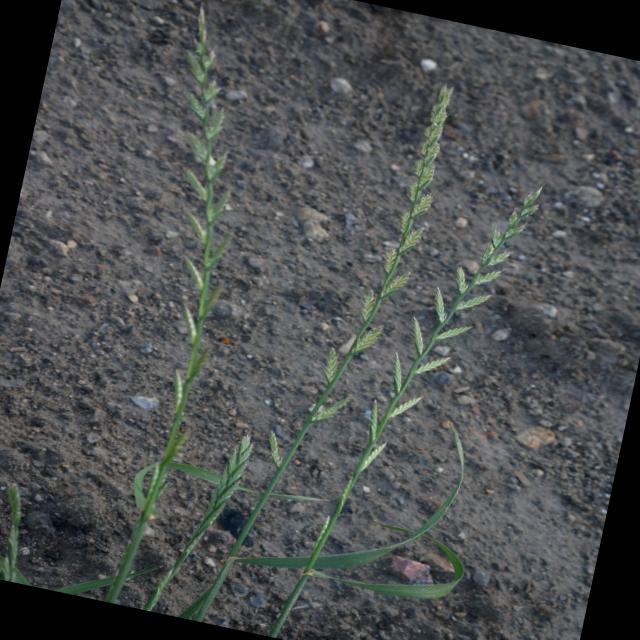Lolium: (249, 151, 544, 640), (62, 9, 278, 612), (234, 64, 465, 624)
